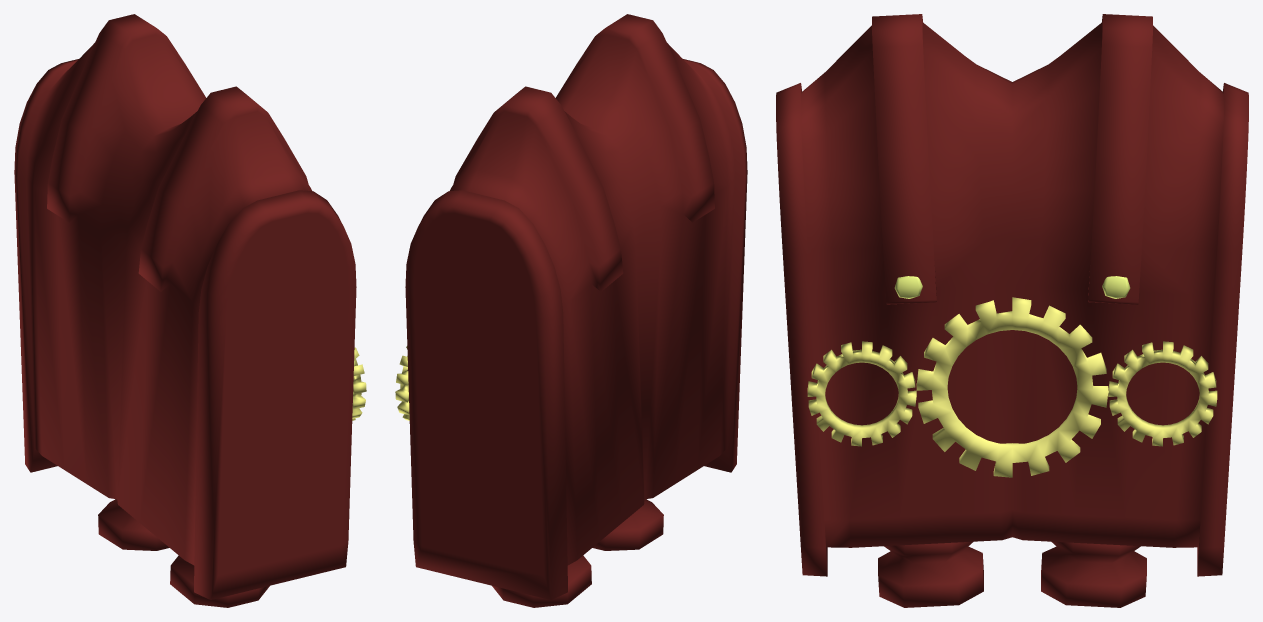
File: steamPunkJetPack.fbx
3 views of the same model, side by side, from view 1: azimuth 30°, elevation 25°; view 2: azimuth 150°, elevation 25°; view 3: azimuth 270°, elevation 25° (orthographic). The views are drawn at different scales.
Parts seen in each view (by area): view 1: Cube, Circle.002; view 2: Cube, Circle.001; view 3: Cube, Circle, Circle.002, Circle.001.
Boxes of the visible parts, left/top/right/bottom form: Cube: left=14, top=14, right=356, bottom=607; Circle.002: left=352, top=347, right=366, bottom=420; Cube: left=405, top=14, right=747, bottom=607; Circle.001: left=395, top=346, right=409, bottom=420; Cube: left=776, top=14, right=1248, bottom=607; Circle: left=916, top=297, right=1108, bottom=477; Circle.002: left=807, top=341, right=916, bottom=446; Circle.001: left=1108, top=341, right=1217, bottom=446.
Size of the model in its own units: 299 by 831 by 628.
